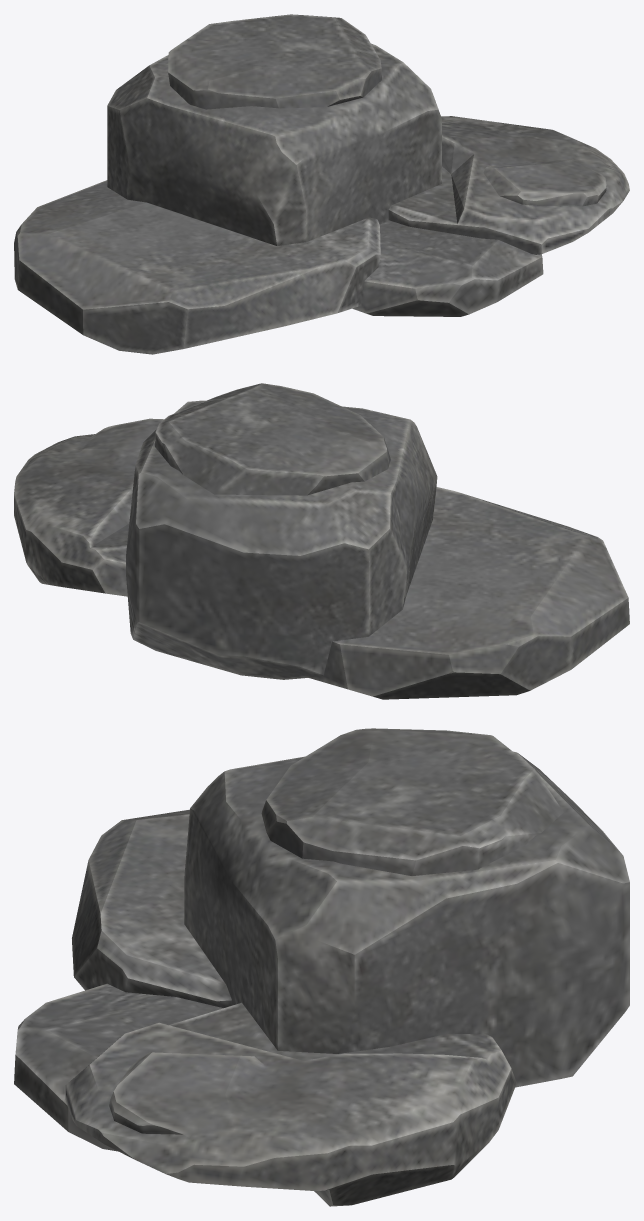
Rendered from RockGroup04_Dream.glb.
3 renders of one model, top to bottom at view 1: azimuth 30°, elevation 25°; view 2: azimuth 150°, elevation 25°; view 3: azimuth 270°, elevation 25°, orthographic. The views are drawn at different scales.
Visible parts, largest first — view 1: rockgroup04_dream; view 2: rockgroup04_dream; view 3: rockgroup04_dream.
Boxes of the visible parts, x1,y1,x2,y2 form: rockgroup04_dream: (14,14,629,354); rockgroup04_dream: (14,383,629,699); rockgroup04_dream: (14,728,629,1206).
Size of the model in its own units: 1 by 0.3182 by 0.6886.
1 material, 1 textured.
